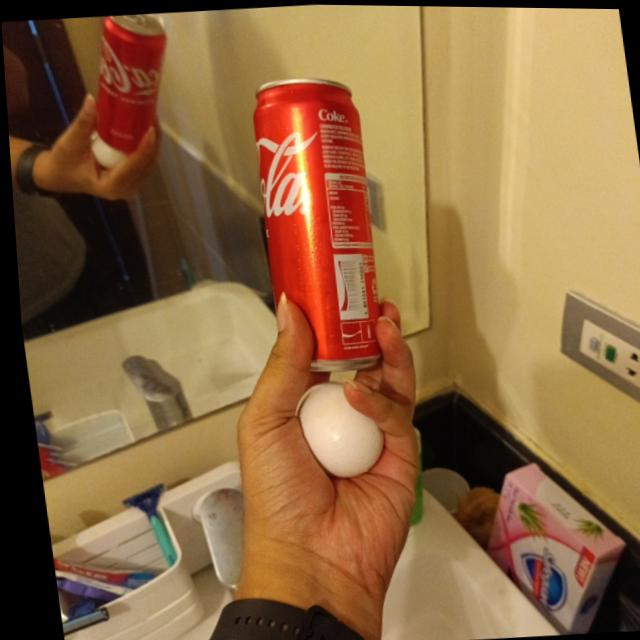coke: (243, 75, 386, 371)
egg: (285, 375, 381, 481)
